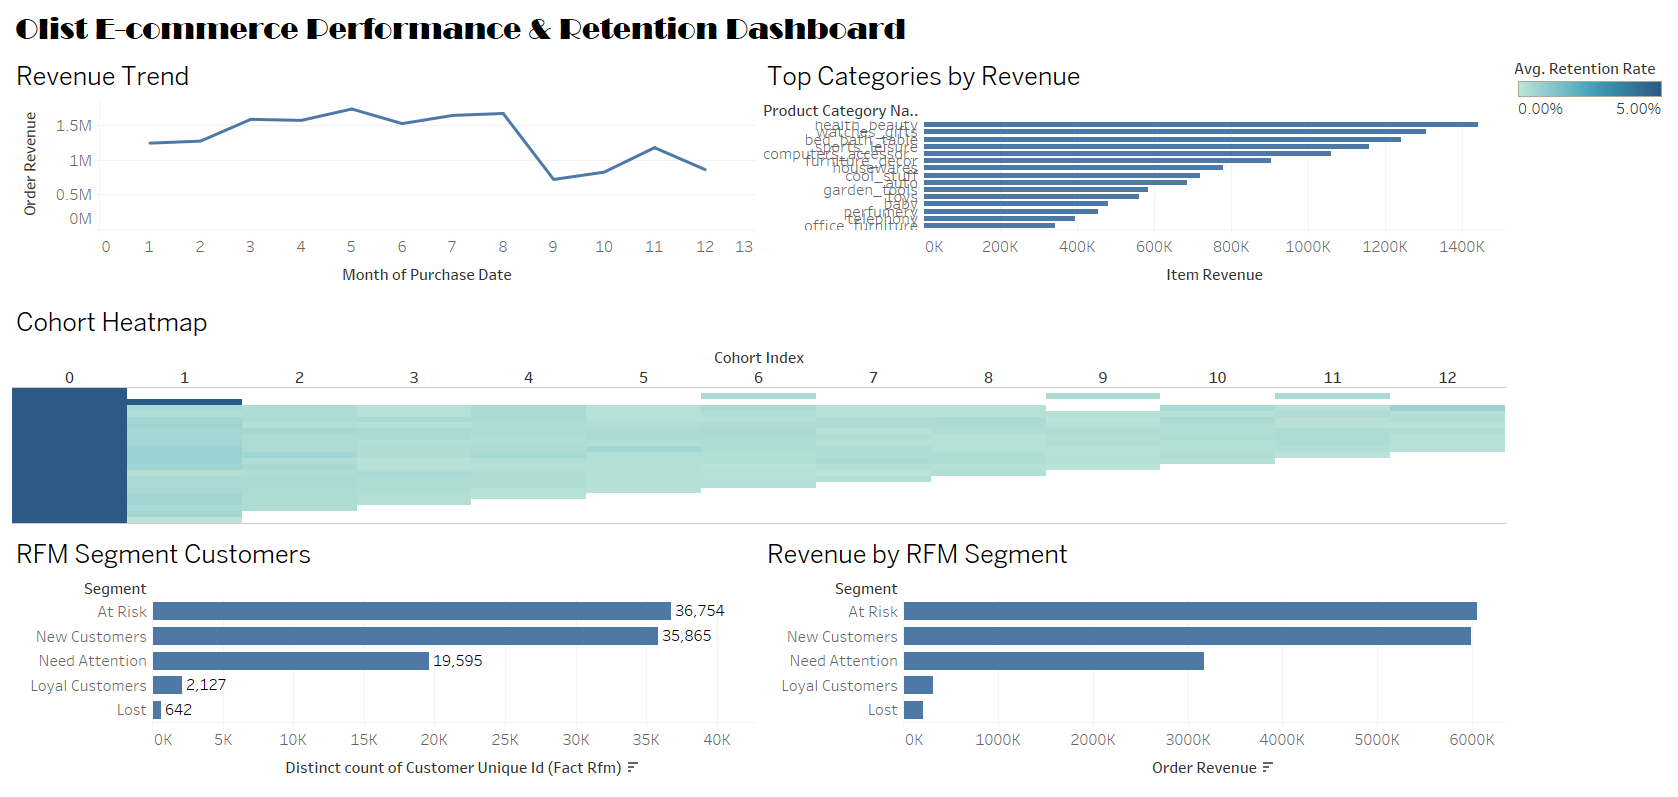

Layout of this report page (visuals, bound fields, positions):
{"tool":"tableau","page":{"name":"Olist E-commerce Performance & Retention Dashboard","canvas":[1000,1000],"units":"permille","ordinal":0},"visuals":[{"type":"title","box":[11.2,10.2,977.7,96.6]},{"type":"worksheet","title":"Revenue Trend ","mark":"Automatic","rows":["order_revenue"],"cols":["purchase_date"],"box":[11.2,106.7,377,294.3]},{"type":"worksheet","title":"Top Categories by Revenue","mark":"Automatic","rows":["product_category_name_english"],"cols":["item_revenue"],"box":[388.2,106.7,377.2,294.3]},{"type":"legend","title":"Cohort Heatmap","param":"[federated.1v7dkh31kj92ry1g4ap0t1v2j852].[avg:retention_rate:qk]","box":[765.4,106.7,223.5,92.8]},{"type":"worksheet","title":"Cohort Heatmap","mark":"Square","rows":["cohort_month"],"cols":["cohort_index"],"box":[11.2,401,754.2,276.7]},{"type":"worksheet","title":"RFM Segment Customers","mark":"Automatic","rows":["segment"],"cols":["customer_unique_id (fact_rfm)"],"box":[11.2,677.8,377,312.1]},{"type":"worksheet","title":"Revenue by RFM Segment","mark":"Automatic","rows":["segment"],"cols":["order_revenue"],"box":[388.2,677.8,377.2,312.1]}]}

Visuals, with their boxes on the dashboard's canvas, which has no fixed pixel size, in thousandths of its width and height (x1, y1, x2, y2). These are canvas units, not pixel positions in the 1678x797 screenshot, which may show the page scaled, cropped or inside an application window:
title: rect(11, 10, 989, 107)
"Revenue Trend " worksheet: rect(11, 107, 388, 401)
"Top Categories by Revenue" worksheet: rect(388, 107, 765, 401)
"Cohort Heatmap" legend: rect(765, 107, 989, 200)
"Cohort Heatmap" worksheet (Square marks): rect(11, 401, 765, 678)
"RFM Segment Customers" worksheet: rect(11, 678, 388, 990)
"Revenue by RFM Segment" worksheet: rect(388, 678, 765, 990)
